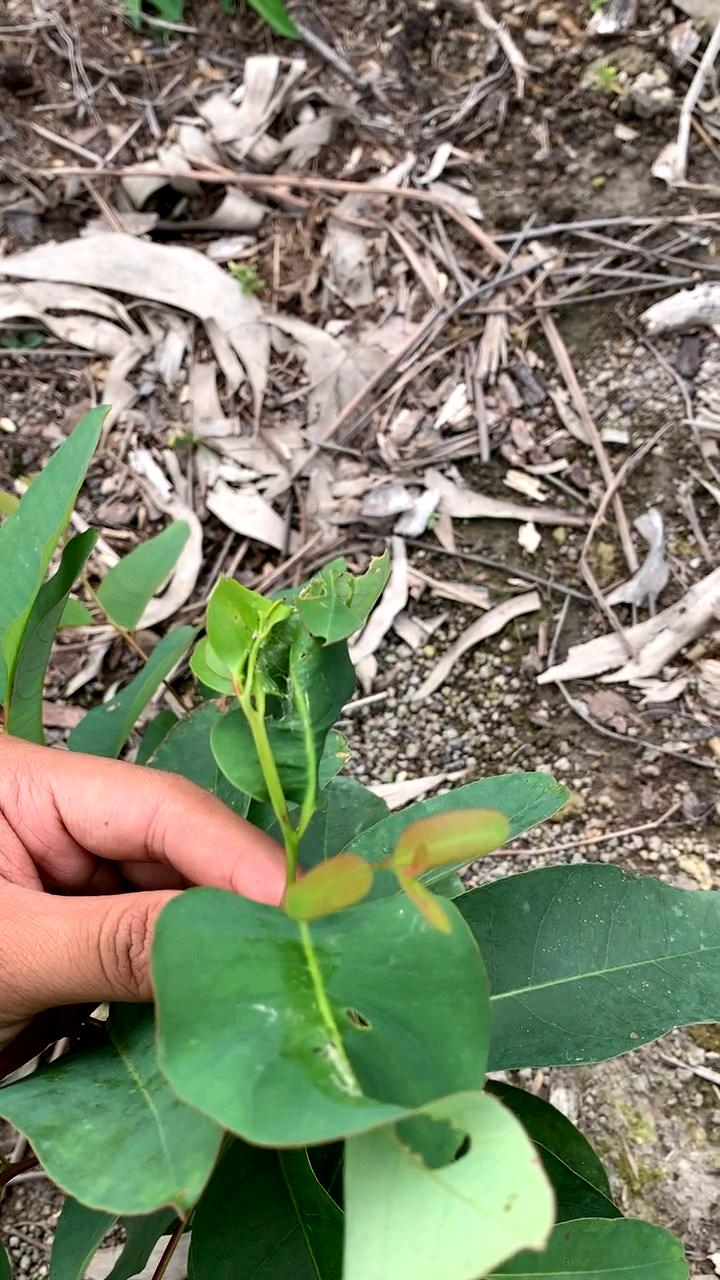Leaf Roller - Leaf: (196, 573, 357, 763)
